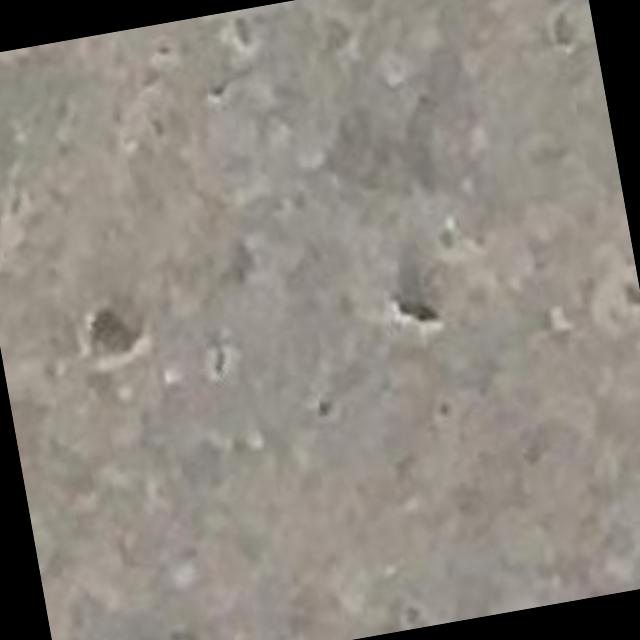peeling plaster: (86, 306, 150, 370)
